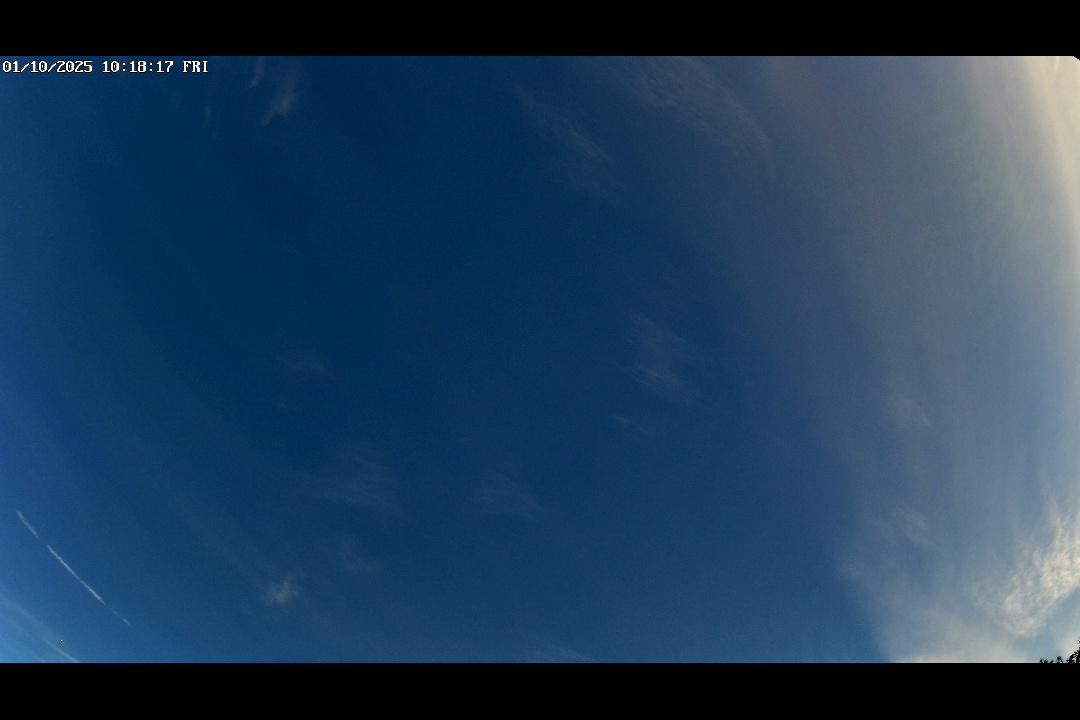Plane: (57, 637, 66, 645)
